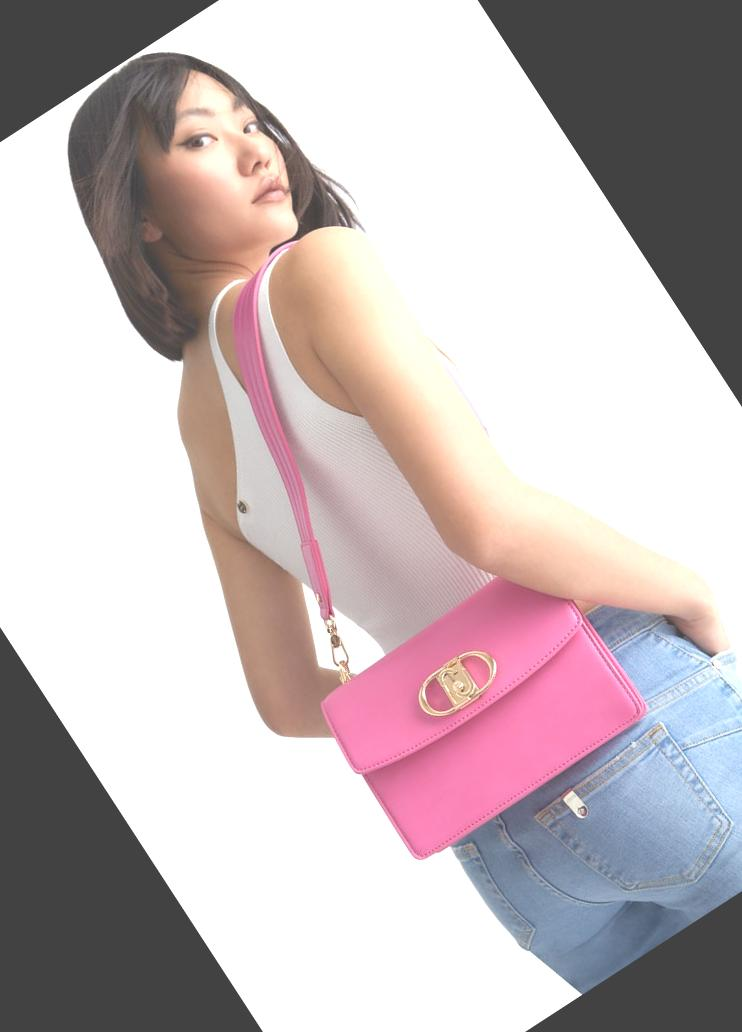LIU-JO: (433, 655, 482, 710)
